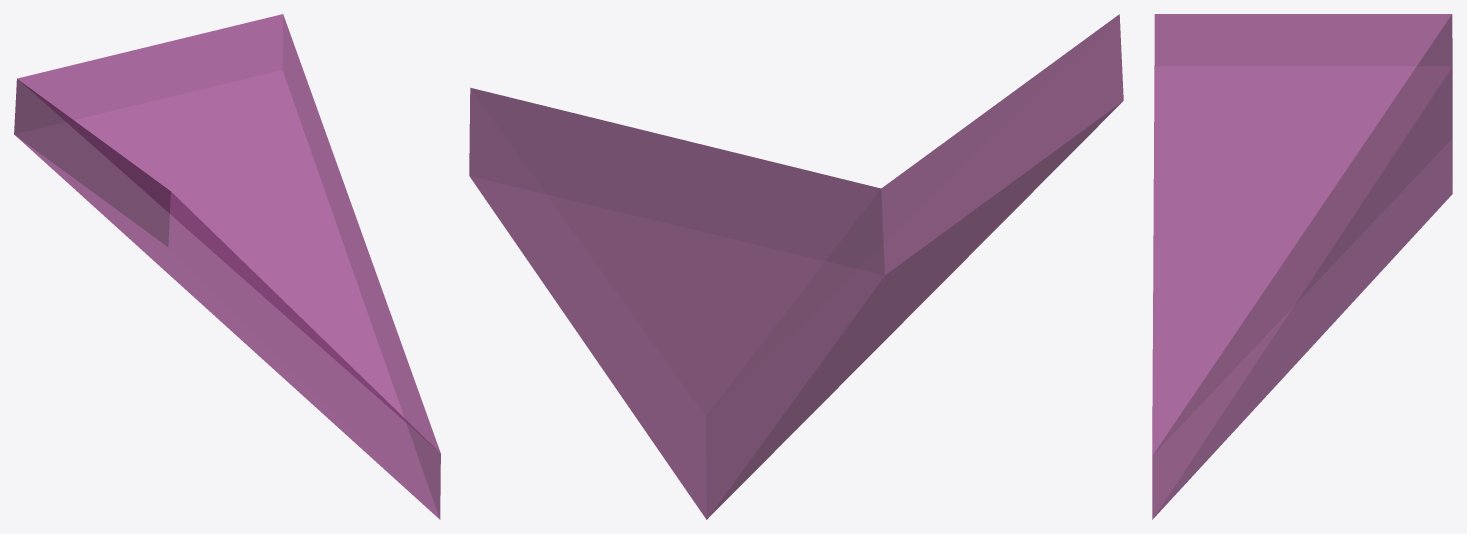
File: SM_Bld_Base_Roof_Corner_In_01_Collision.fbx
3 views of the same model, side by side, from view 1: azimuth 30°, elevation 25°; view 2: azimuth 150°, elevation 25°; view 3: azimuth 270°, elevation 25° (orthographic). The views are drawn at different scales.
Visible parts, largest first — view 1: SM_Bld_Base_Roof_Corner_In_01_Collision; view 2: SM_Bld_Base_Roof_Corner_In_01_Collision; view 3: SM_Bld_Base_Roof_Corner_In_01_Collision.
Boxes of the visible parts, x1,y1,x2,y2 form: SM_Bld_Base_Roof_Corner_In_01_Collision: [14, 14, 440, 519]; SM_Bld_Base_Roof_Corner_In_01_Collision: [469, 14, 1123, 519]; SM_Bld_Base_Roof_Corner_In_01_Collision: [1152, 14, 1452, 519].
Bounding box in the file's own units: 260 × 361 × 259.
